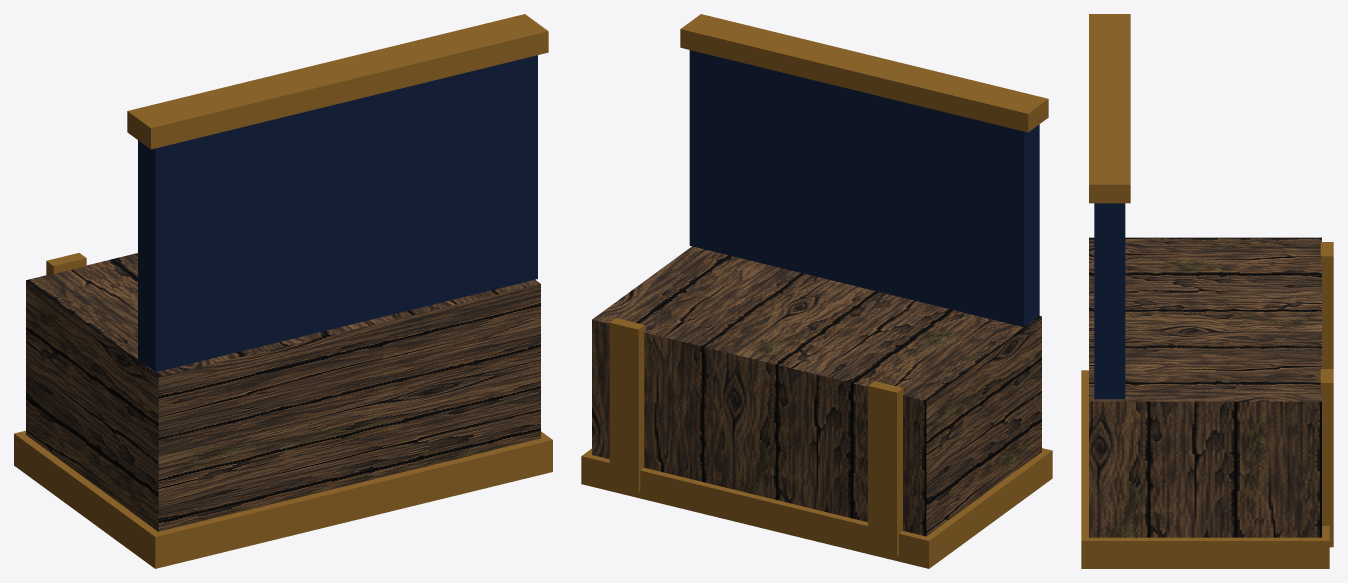
File: C07_Bau_Deluxe_Aberto.obj
The picture shows the model from 3 angles, left to right: view 1: azimuth 30°, elevation 25°; view 2: azimuth 150°, elevation 25°; view 3: azimuth 270°, elevation 25°; orthographic projection. The views are drawn at different scales.
Parts seen in each view (by area): view 1: C07_Bau_Deluxe_Aberto; view 2: C07_Bau_Deluxe_Aberto; view 3: C07_Bau_Deluxe_Aberto.
Boxes of the visible parts, x1,y1,x2,y2 form: C07_Bau_Deluxe_Aberto: [14, 14, 552, 568]; C07_Bau_Deluxe_Aberto: [581, 14, 1052, 568]; C07_Bau_Deluxe_Aberto: [1081, 14, 1333, 568].
Size of the model in its own units: 1.56 by 1.64 by 0.975.
3 materials, 1 textured.
